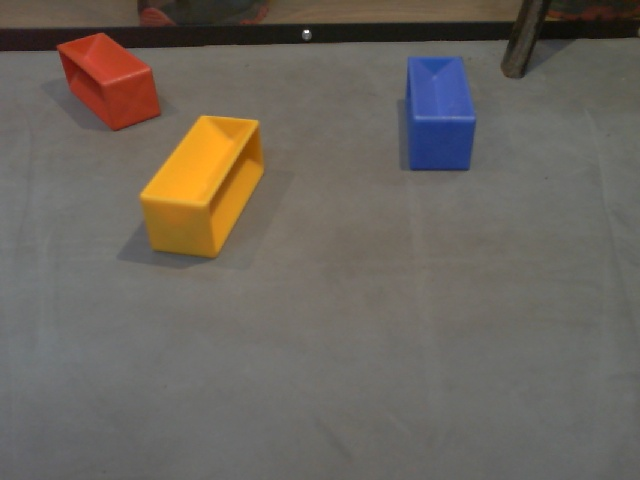BlueSample: (399, 51, 481, 184)
RedSample: (56, 28, 162, 132)
YellowSample: (136, 114, 269, 261)
